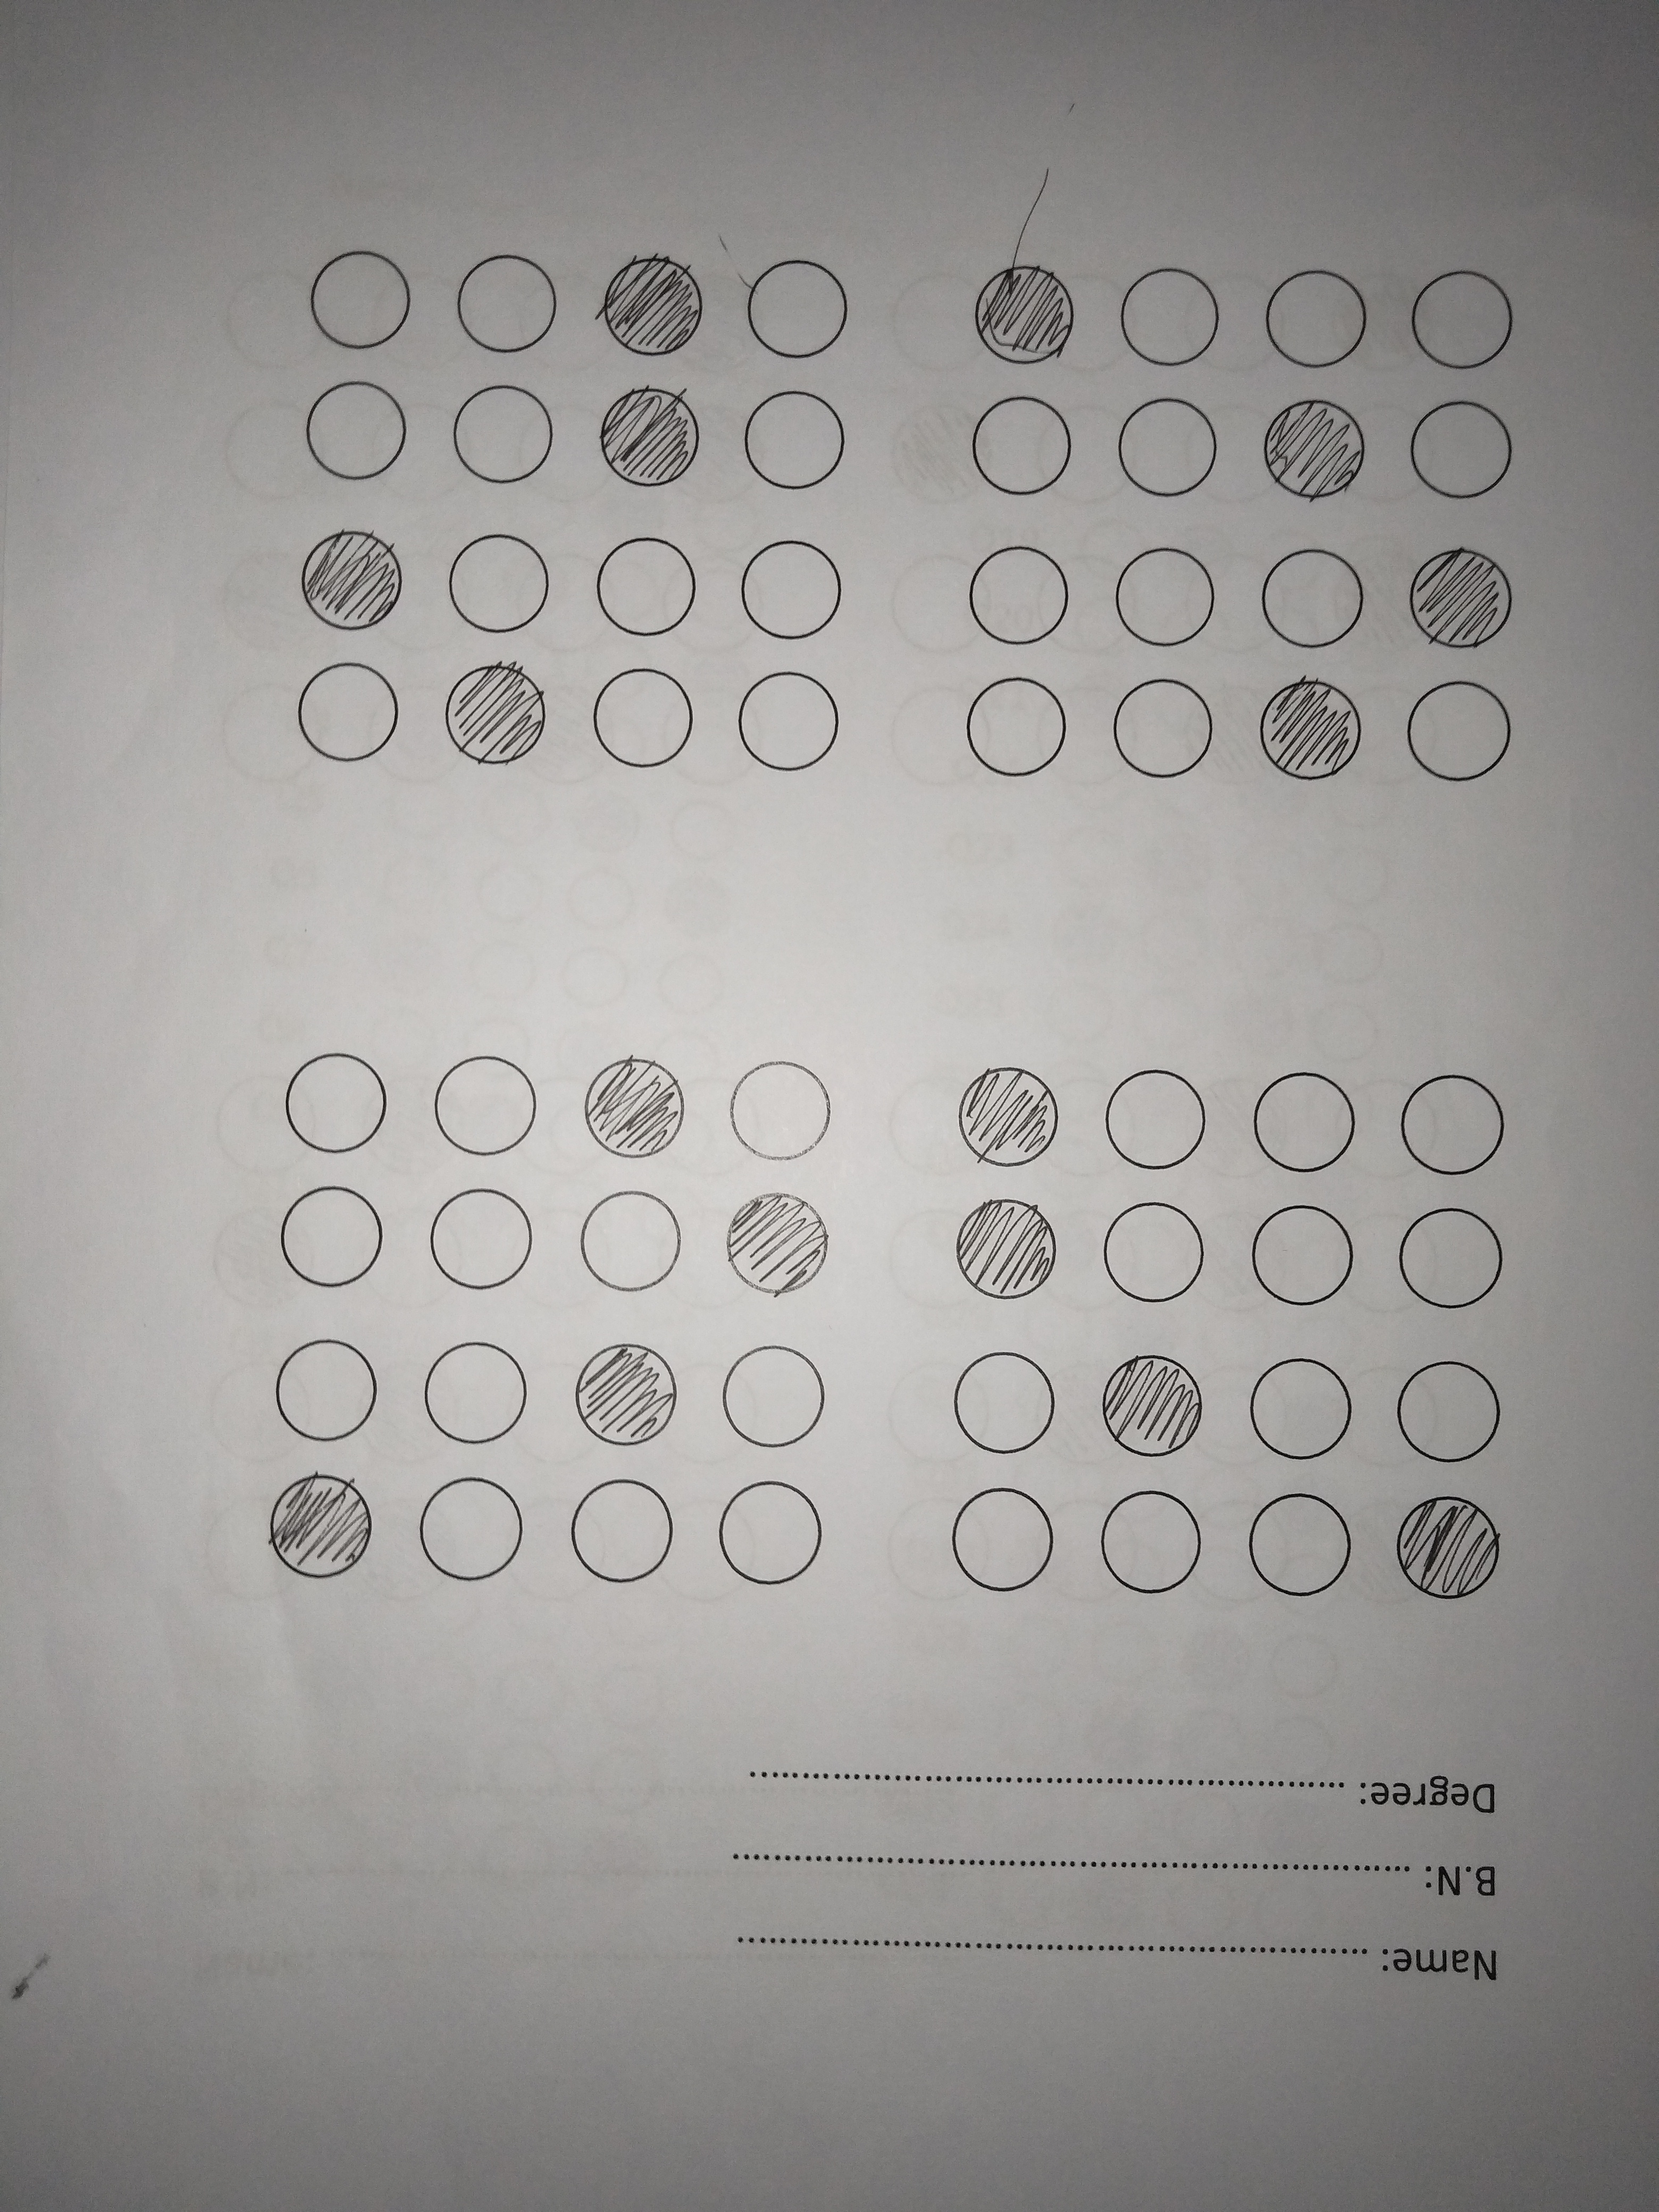not-c: (1387, 1200, 1513, 1317), (558, 1472, 683, 1588), (267, 1331, 392, 1447), (1091, 1482, 1216, 1599), (945, 1346, 1068, 1463), (1094, 1193, 1218, 1310), (708, 1474, 831, 1590), (408, 1468, 532, 1585), (413, 1334, 537, 1451), (713, 1338, 836, 1454), (268, 1177, 392, 1294), (570, 1179, 694, 1296), (1241, 1484, 1364, 1601), (1384, 1355, 1509, 1470), (415, 1179, 540, 1294), (941, 1480, 1065, 1595), (1241, 1350, 1364, 1465), (1241, 1197, 1364, 1312), (720, 1055, 843, 1165), (1394, 676, 1518, 786), (301, 244, 423, 354), (291, 369, 413, 479), (444, 380, 566, 489), (443, 246, 565, 355), (1391, 1071, 1513, 1181), (1241, 1066, 1363, 1176), (1096, 1066, 1218, 1176), (425, 1050, 547, 1160), (272, 1047, 394, 1157), (584, 533, 706, 643), (439, 529, 561, 639), (284, 655, 406, 765), (579, 660, 701, 770), (725, 665, 847, 775), (955, 672, 1077, 782), (1103, 676, 1225, 786), (737, 533, 859, 643), (1403, 392, 1525, 502), (1248, 542, 1370, 651), (1101, 540, 1223, 650), (958, 540, 1080, 650), (955, 390, 1077, 500), (1403, 263, 1525, 373), (1251, 265, 1373, 374), (732, 385, 854, 495), (737, 254, 859, 364), (1107, 263, 1229, 373), (1110, 394, 1232, 502)
taken-c: (1248, 390, 1375, 502), (1243, 669, 1370, 780), (432, 658, 559, 770), (587, 378, 714, 489), (964, 254, 1091, 366), (945, 1191, 1072, 1303), (1089, 1346, 1216, 1458), (1389, 1489, 1516, 1601), (941, 1064, 1068, 1176), (568, 1336, 688, 1453), (254, 1470, 382, 1580), (572, 1052, 699, 1162), (1399, 538, 1527, 648), (592, 247, 720, 357), (714, 1190, 842, 1299), (282, 526, 410, 636)
